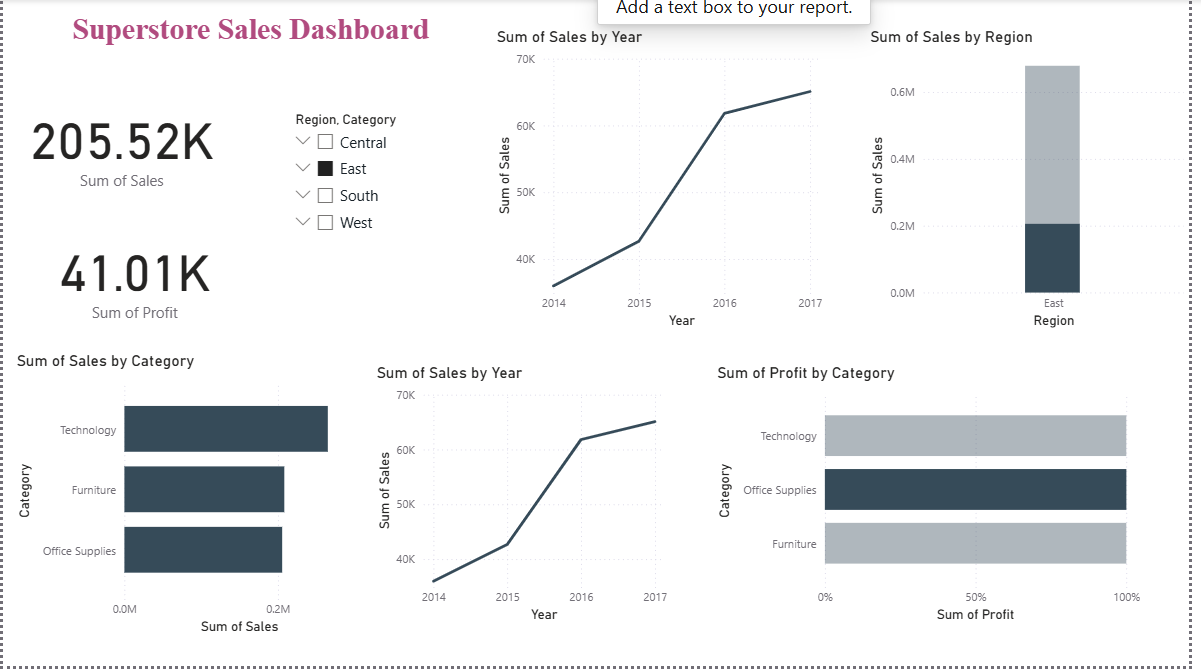

The page's visual inventory and layout, read from the dashboard file:
{"tool":"powerbi","page":{"name":"Page 1","canvas":[1280,720],"ordinal":0},"visuals":[{"type":"card","fields":{"Values":["Sum(Sample - Superstore.Sales)"]},"box":[9.7,87.4,236.4,139.3],"z":0},{"type":"card","fields":{"Values":["Sum(Sample - Superstore.Profit)"]},"box":[9.4,207.9,264.6,185.2],"z":1000},{"type":"clusteredBarChart","fields":{"Category":["Sample - Superstore.Category"],"Y":["Sum(Sample - Superstore.Sales)"]},"box":[9.7,380.5,388.6,309.3],"z":2000},{"type":"columnChart","fields":{"Category":["Sample - Superstore.Region"],"Y":["Sum(Sample - Superstore.Sales)"]},"box":[931.1,30.8,348.1,328.7],"z":3000},{"type":"lineChart","fields":{"Category":["Sample - Superstore.Order Date.Variation.Date Hierarchy.Year","Sample - Superstore.Order Date.Variation.Date Hierarchy.Quarter","Sample - Superstore.Order Date.Variation.Date Hierarchy.Month","Sample - Superstore.Order Date.Variation.Date Hierarchy.Day"],"Y":["Sum(Sample - Superstore.Sales)"]},"box":[398.7,393.1,323.2,283.5],"z":4000},{"type":"lineChart","fields":{"Category":["Sample - Superstore.Order Date.Variation.Date Hierarchy.Year","Sample - Superstore.Order Date.Variation.Date Hierarchy.Quarter","Sample - Superstore.Order Date.Variation.Date Hierarchy.Month","Sample - Superstore.Order Date.Variation.Date Hierarchy.Day"],"Y":["Sum(Sample - Superstore.Sales)"]},"box":[527.9,30.8,361.1,328.7],"z":5000},{"type":"hundredPercentStackedBarChart","fields":{"Category":["Sample - Superstore.Category"],"Y":["Sum(Sample - Superstore.Profit)"]},"box":[765.9,393.5,466.3,283.4],"z":6000},{"type":"slicer","fields":{"Values":["Sample - Superstore.Region","Sample - Superstore.Category"]},"box":[302.8,116.6,225.1,276.9],"z":6001},{"type":"textbox","box":[22.7,7.6,489.5,68],"z":6002}]}

Visuals, with their boxes in screenshot pixels (x1, y1, x2, y2), scaled from the page's 1280x720 canvas onto the 1201x672 screenshot:
card - Sum(Sample - Superstore.Sales): <bbox>9, 82, 231, 212</bbox>
card - Sum(Sample - Superstore.Profit): <bbox>9, 194, 257, 367</bbox>
clusteredBarChart - Sample - Superstore.Category x Sum(Sample - Superstore.Sales): <bbox>9, 355, 374, 644</bbox>
columnChart - Sample - Superstore.Region x Sum(Sample - Superstore.Sales): <bbox>874, 29, 1200, 336</bbox>
lineChart - Sample - Superstore.Order Date.Variation.Date Hierarchy.Year x Sample - Superstore.Order Date.Variation.Date Hierarchy.Quarter: <bbox>374, 367, 677, 631</bbox>
lineChart - Sample - Superstore.Order Date.Variation.Date Hierarchy.Year x Sample - Superstore.Order Date.Variation.Date Hierarchy.Quarter: <bbox>495, 29, 834, 336</bbox>
hundredPercentStackedBarChart - Sample - Superstore.Category x Sum(Sample - Superstore.Profit): <bbox>719, 367, 1156, 632</bbox>
slicer - Sample - Superstore.Region x Sample - Superstore.Category: <bbox>284, 109, 495, 367</bbox>
textbox: <bbox>21, 7, 481, 71</bbox>
